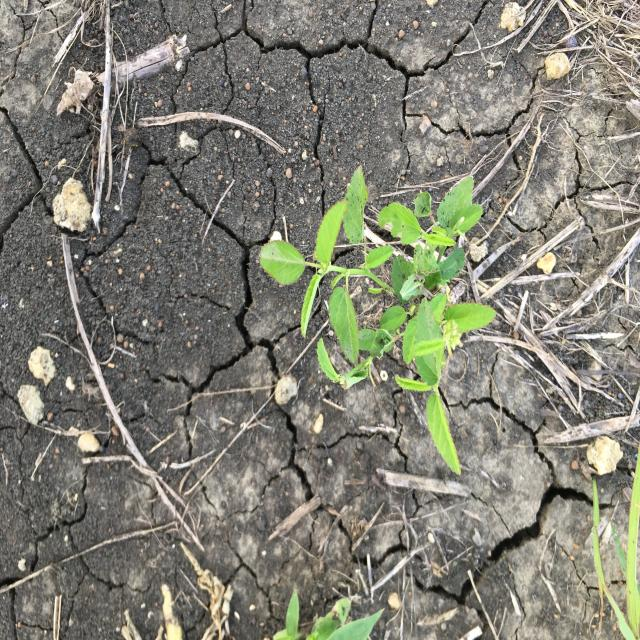PricklySida: (257, 163, 499, 479)
